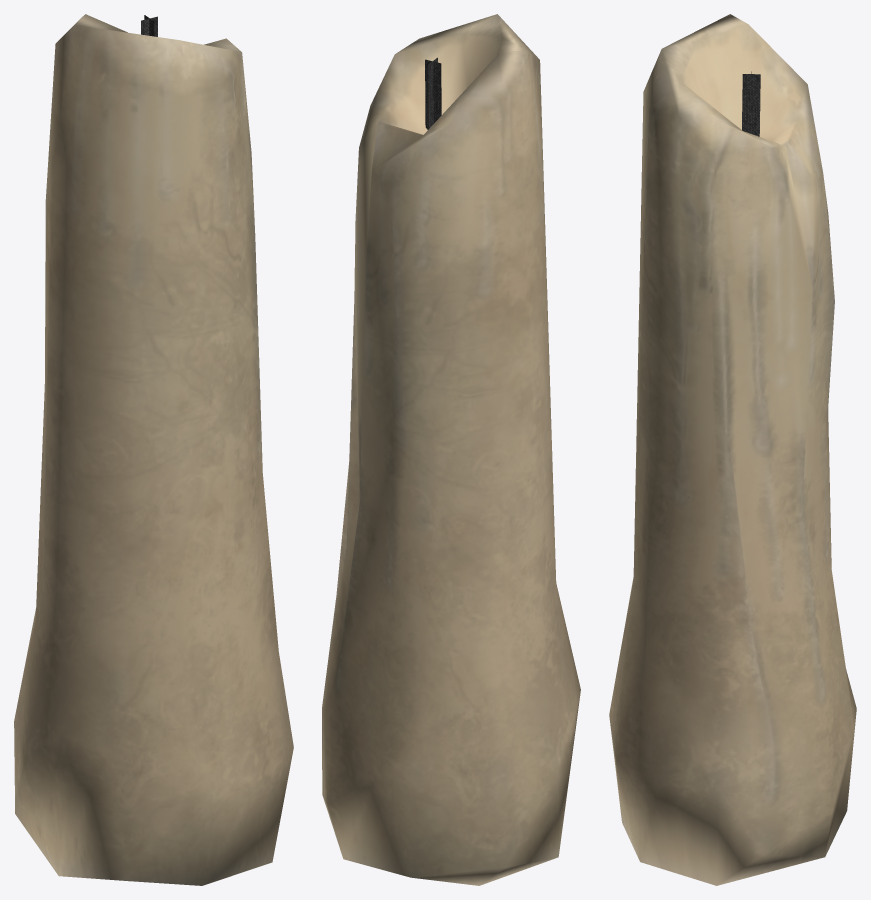
Rendered from SM_Candle_03.fbx.
3 views of the same model, side by side, from view 1: azimuth 30°, elevation 25°; view 2: azimuth 150°, elevation 25°; view 3: azimuth 270°, elevation 25° (orthographic). The views are drawn at different scales.
Parts seen in each view (by area): view 1: SM_Candle_03_LOD0; view 2: SM_Candle_03_LOD0; view 3: SM_Candle_03_LOD0.
Boxes of the visible parts, x1,y1,x2,y2 form: SM_Candle_03_LOD0: (14, 14, 293, 885); SM_Candle_03_LOD0: (322, 14, 580, 885); SM_Candle_03_LOD0: (609, 14, 856, 885).
Bounding box in the file's own units: 12 × 11.39 × 39.71.
Materials: 1 (1 with a texture image).
